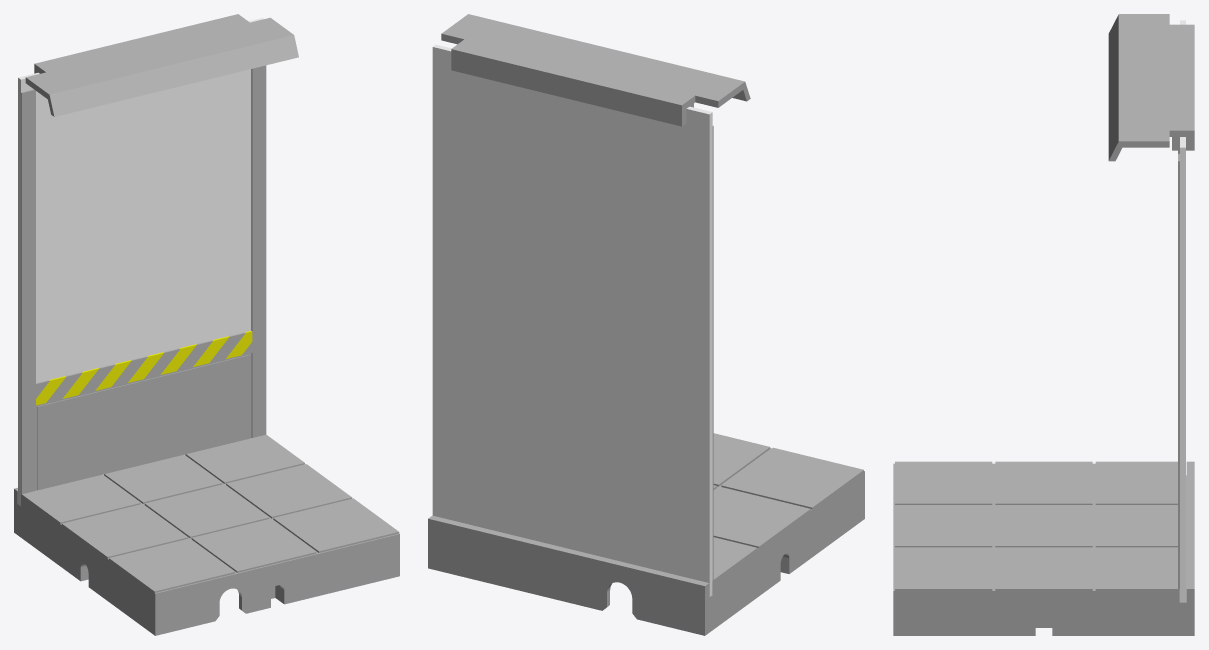
Rendered from rueckwand_garage.glb.
3 renders of one model, left to right at view 1: azimuth 30°, elevation 25°; view 2: azimuth 150°, elevation 25°; view 3: azimuth 270°, elevation 25°, orthographic. The views are drawn at different scales.
Visible parts, largest first — view 1: Seitenwand_erweiterung-1, Werkstattboden_single-1, Artika-1; view 2: Seitenwand_erweiterung-1, Werkstattboden_single-1, Artika-1; view 3: Werkstattboden_single-1, Artika-1, Seitenwand_erweiterung-1.
Boxes of the visible parts, x1,y1,x2,y2 form: Seitenwand_erweiterung-1: [18, 18, 266, 506]; Werkstattboden_single-1: [14, 434, 399, 635]; Artika-1: [25, 14, 298, 116]; Seitenwand_erweiterung-1: [432, 44, 713, 597]; Werkstattboden_single-1: [428, 433, 864, 635]; Artika-1: [441, 14, 750, 126]; Werkstattboden_single-1: [893, 461, 1194, 635]; Artika-1: [1108, 14, 1194, 161]; Seitenwand_erweiterung-1: [1178, 20, 1185, 602].
Bounding box in the file's own units: 0.06 × 0.1087 × 0.06.
